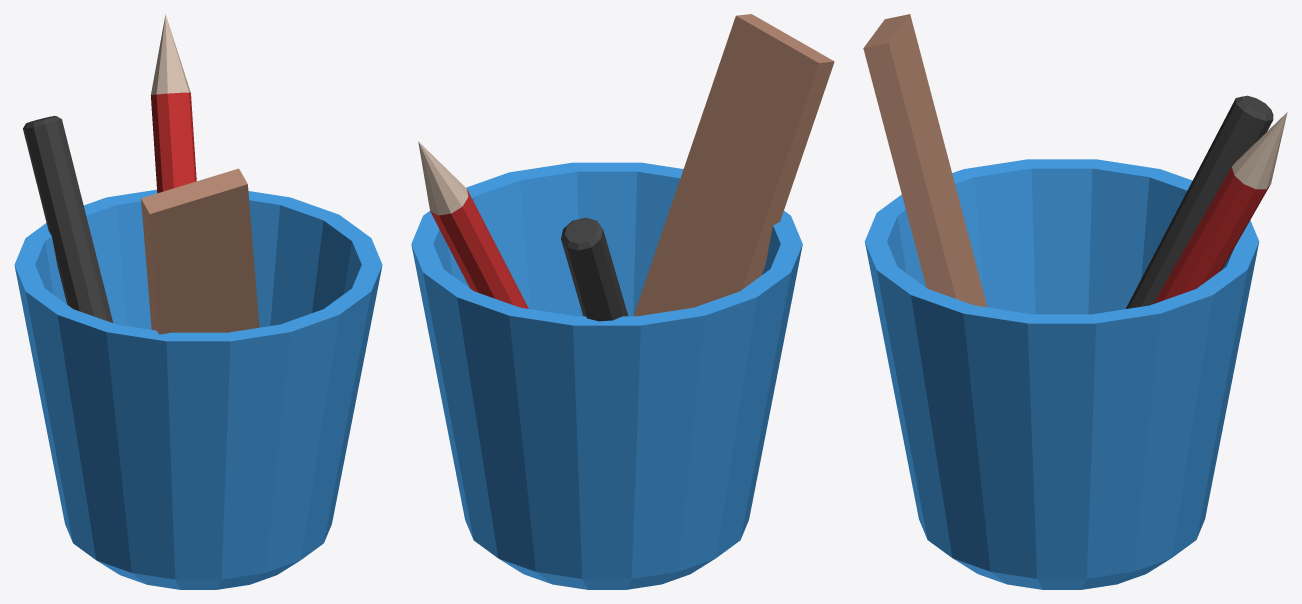
File: Pencils box.fbx
The picture shows the model from 3 angles, left to right: view 1: azimuth 30°, elevation 25°; view 2: azimuth 150°, elevation 25°; view 3: azimuth 270°, elevation 25°; orthographic projection. The views are drawn at different scales.
Visible parts, largest first — view 1: Circle.001; view 2: Circle.001; view 3: Circle.001.
Boxes of the visible parts, box(x1,y1,x2,y2) form: Circle.001: box(14, 14, 382, 589); Circle.001: box(411, 14, 834, 589); Circle.001: box(863, 14, 1287, 589).
Bounding box in the file's own units: 34.17 × 46.57 × 37.31.
